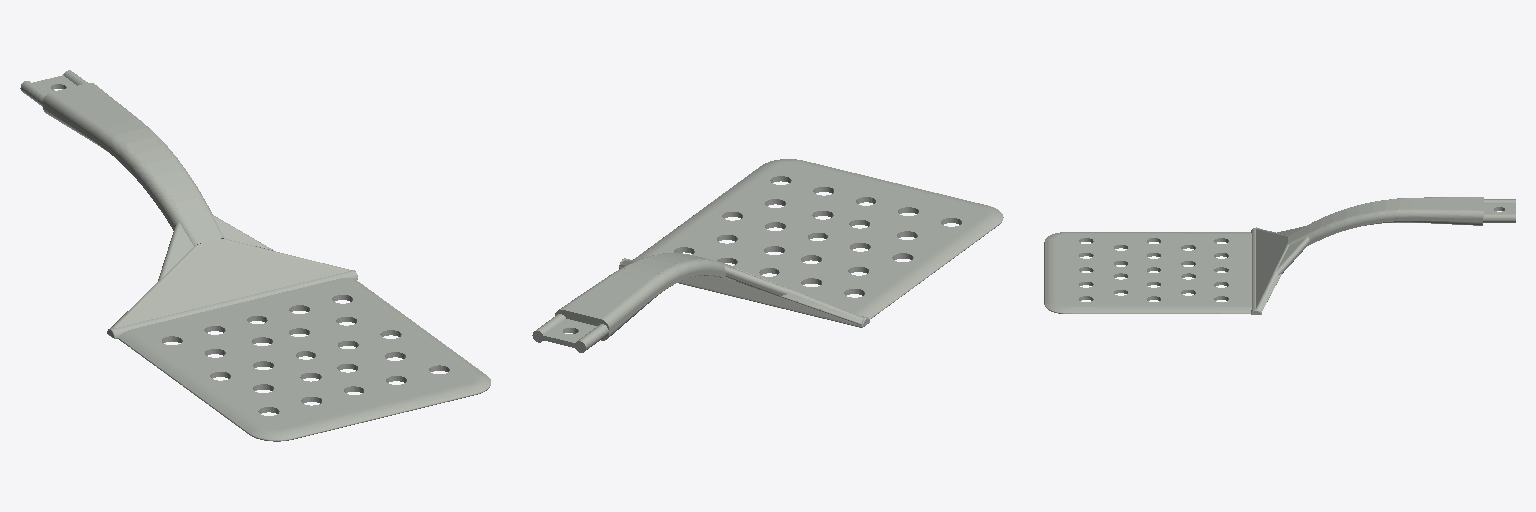
URDF robot description (scoop_with_spatula_spatula):
<?xml version="1.0"?>
<robot name="scoop_with_spatula_spatula">
    <link name="robot_base">
        <inertial>
            <origin rpy="-3.135589 4.501131 1.570820" xyz="0.353853 0.104745 0.013827" />
            <inertia ixx="0.00040090551519583" ixy="2.0990716842894e-07" iyy="0.00035164261637305" izz="5.5924374711021e-05" iyz="-1.0354817137446e-05" ixz="2.4879037330088e-06" />
            <mass value="0.068661838769913" />
        </inertial>
        <collision name="scoop_with_spatula_spatula">
            <origin rpy="-3.135589 4.501131 1.570820" xyz="0.355219 0.134357 0.019857" />
            <geometry>
                <mesh filename="spatula_robot_base_coll_1.dae" />
            </geometry>
        </collision>
        <collision name="scoop_with_spatula_spatula">
            <origin rpy="-3.135589 4.501131 1.570820" xyz="0.355219 0.134357 0.019857" />
            <geometry>
                <mesh filename="spatula_robot_base_coll_2.dae" />
            </geometry>
        </collision>
        <collision name="scoop_with_spatula_spatula">
            <origin rpy="-3.135589 4.501131 1.570820" xyz="0.355219 0.134357 0.019857" />
            <geometry>
                <mesh filename="spatula_robot_base_coll_3.dae" />
            </geometry>
        </collision>
        <collision name="scoop_with_spatula_spatula">
            <origin rpy="-3.135589 4.501131 1.570820" xyz="0.355219 0.134357 0.019857" />
            <geometry>
                <mesh filename="spatula_robot_base_coll_4.dae" />
            </geometry>
        </collision>
        <collision name="scoop_with_spatula_spatula">
            <origin rpy="-3.135589 4.501131 1.570820" xyz="0.355219 0.134357 0.019857" />
            <geometry>
                <mesh filename="spatula_robot_base_coll_5.dae" />
            </geometry>
        </collision>
        <collision name="scoop_with_spatula_spatula">
            <origin rpy="-3.135589 4.501131 1.570820" xyz="0.355219 0.134357 0.019857" />
            <geometry>
                <mesh filename="spatula_robot_base_coll_6.dae" />
            </geometry>
        </collision>
        <collision name="scoop_with_spatula_spatula">
            <origin rpy="-3.135589 4.501131 1.570820" xyz="0.355219 0.134357 0.019857" />
            <geometry>
                <mesh filename="spatula_robot_base_coll_7.dae" />
            </geometry>
        </collision>
        <collision name="scoop_with_spatula_spatula">
            <origin rpy="-3.135589 4.501131 1.570820" xyz="0.355219 0.134357 0.019857" />
            <geometry>
                <mesh filename="spatula_robot_base_coll_8.dae" />
            </geometry>
        </collision>
        <collision name="scoop_with_spatula_spatula">
            <origin rpy="-3.135589 4.501131 1.570820" xyz="0.355219 0.134357 0.019857" />
            <geometry>
                <mesh filename="spatula_robot_base_coll_9.dae" />
            </geometry>
        </collision>
        <collision name="scoop_with_spatula_spatula">
            <origin rpy="-3.135589 4.501131 1.570820" xyz="0.355219 0.134357 0.019857" />
            <geometry>
                <mesh filename="spatula_robot_base_coll_10.dae" />
            </geometry>
        </collision>
        <collision name="scoop_with_spatula_spatula">
            <origin rpy="-3.135589 4.501131 1.570820" xyz="0.355219 0.134357 0.019857" />
            <geometry>
                <mesh filename="spatula_robot_base_coll_11.dae" />
            </geometry>
        </collision>
        <collision name="scoop_with_spatula_spatula">
            <origin rpy="-3.135589 4.501131 1.570820" xyz="0.355219 0.134357 0.019857" />
            <geometry>
                <mesh filename="spatula_robot_base_coll_12.dae" />
            </geometry>
        </collision>
        <collision name="scoop_with_spatula_spatula">
            <origin rpy="-3.135589 4.501131 1.570820" xyz="0.355219 0.134357 0.019857" />
            <geometry>
                <mesh filename="spatula_robot_base_coll_13.dae" />
            </geometry>
        </collision>
        <collision name="scoop_with_spatula_spatula">
            <origin rpy="-3.135589 4.501131 1.570820" xyz="0.355219 0.134357 0.019857" />
            <geometry>
                <mesh filename="spatula_robot_base_coll_14.dae" />
            </geometry>
        </collision>
        <collision name="scoop_with_spatula_spatula">
            <origin rpy="-3.135589 4.501131 1.570820" xyz="0.355219 0.134357 0.019857" />
            <geometry>
                <mesh filename="spatula_robot_base_coll_15.dae" />
            </geometry>
        </collision>
        <collision name="scoop_with_spatula_spatula">
            <origin rpy="-3.135589 4.501131 1.570820" xyz="0.355219 0.134357 0.019857" />
            <geometry>
                <mesh filename="spatula_robot_base_coll_16.dae" />
            </geometry>
        </collision>
        <visual name="spatula_visual">
            <origin rpy="-0.077042 1.762295 -1.648993" xyz="0.355323 0.133821 0.019890" />
            <geometry>
                <mesh filename="spatula_spatula_visual_vis_1.dae" />
            </geometry>
            <material name="spatula_visual_material">
                <color rgba="0.706520 0.724500 0.695500 1.0" />
            </material>
        </visual>
    </link>
</robot>

--- Render facts (derived) ---
Views: 3 orthographic renders of the robot side by side, from view 1: azimuth 30°, elevation 25°; view 2: azimuth 150°, elevation 25°; view 3: azimuth 270°, elevation 25°.
Model scoop_with_spatula_spatula with 1 links and 0 joints (none), rooted at robot_base, posed every joint at zero.
Visible links, largest first — view 1: robot_base; view 2: robot_base; view 3: robot_base.
Boxes of the visible links, left/top/right/bottom form: robot_base: left=20, top=70, right=490, bottom=441; robot_base: left=532, top=159, right=1003, bottom=352; robot_base: left=1044, top=197, right=1515, bottom=314.
Bounding box of the posed robot: 0.1196 × 0.2861 × 0.0471 m (x, y, z).
Meshes: 1 distinct files referenced, 1 mesh visuals loaded (1 Collada DAE).
